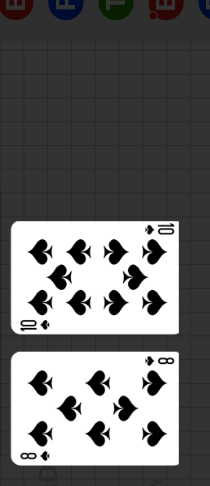10S: (142, 222, 176, 237)
8S: (19, 449, 53, 462)
